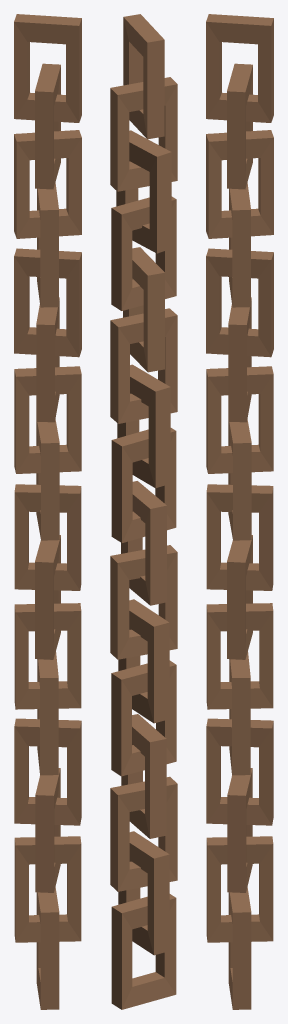
The model's file is Chain_01_Half_Base.fbx.
3 views of the same model, side by side, from view 1: azimuth 90°, elevation 25°; view 2: azimuth 210°, elevation 25°; view 3: azimuth 270°, elevation 25° (orthographic).
Visible parts, largest first — view 1: Chain_01_Half_Base; view 2: Chain_01_Half_Base; view 3: Chain_01_Half_Base.
Part boxes in pixels (bbox=[...]): Chain_01_Half_Base: bbox=[14, 14, 81, 1009]; Chain_01_Half_Base: bbox=[110, 14, 177, 1009]; Chain_01_Half_Base: bbox=[206, 14, 273, 1009].
Size of the model in its own units: 18.51 by 295 by 18.59.
